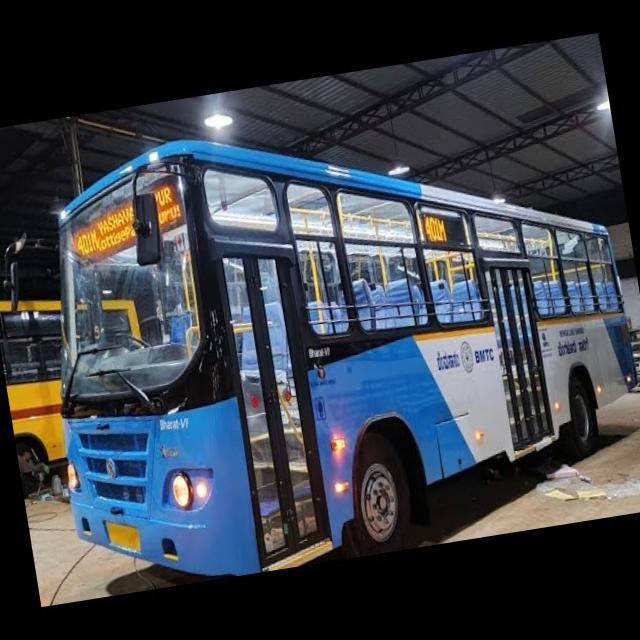bus: (0, 64, 640, 612)
display: (61, 180, 187, 264), (422, 208, 468, 250)
dnumber: (73, 225, 101, 256), (424, 212, 448, 245)
